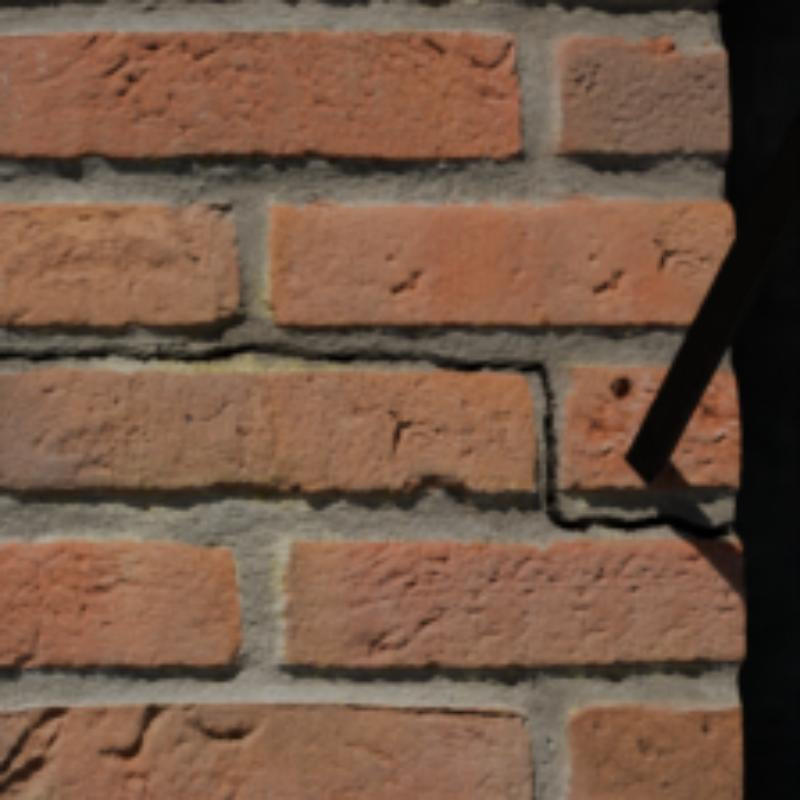pothole: (0, 343, 725, 536)
